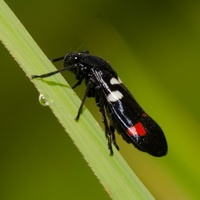insect: (32, 51, 167, 156)
